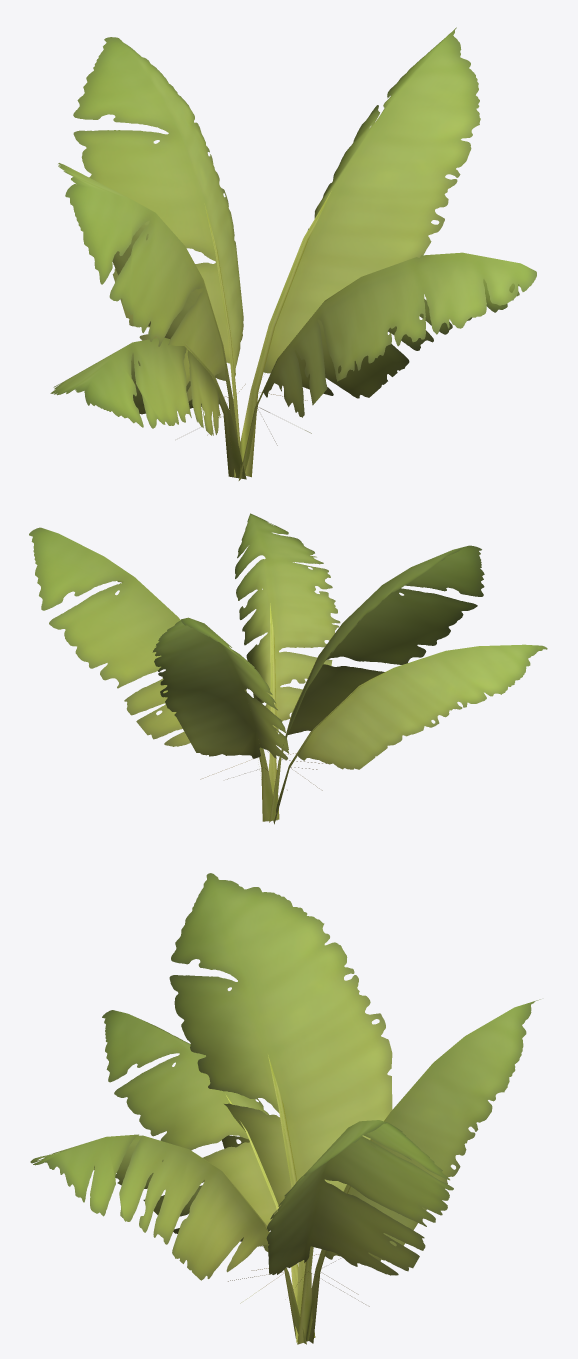
Rendered from banana plant 02_lod3.obj.
3 renders of one model, top to bottom at view 1: azimuth 30°, elevation 25°; view 2: azimuth 150°, elevation 25°; view 3: azimuth 270°, elevation 25°, orthographic. The views are drawn at different scales.
Parts seen in each view (by area): view 1: tree; view 2: tree; view 3: tree.
Part boxes in pixels (x1,y1,x2,y2): tree: (50,27,536,480); tree: (29,513,547,824); tree: (30,873,540,1344).
Bounding box in the file's own units: 238 × 156 × 206.
